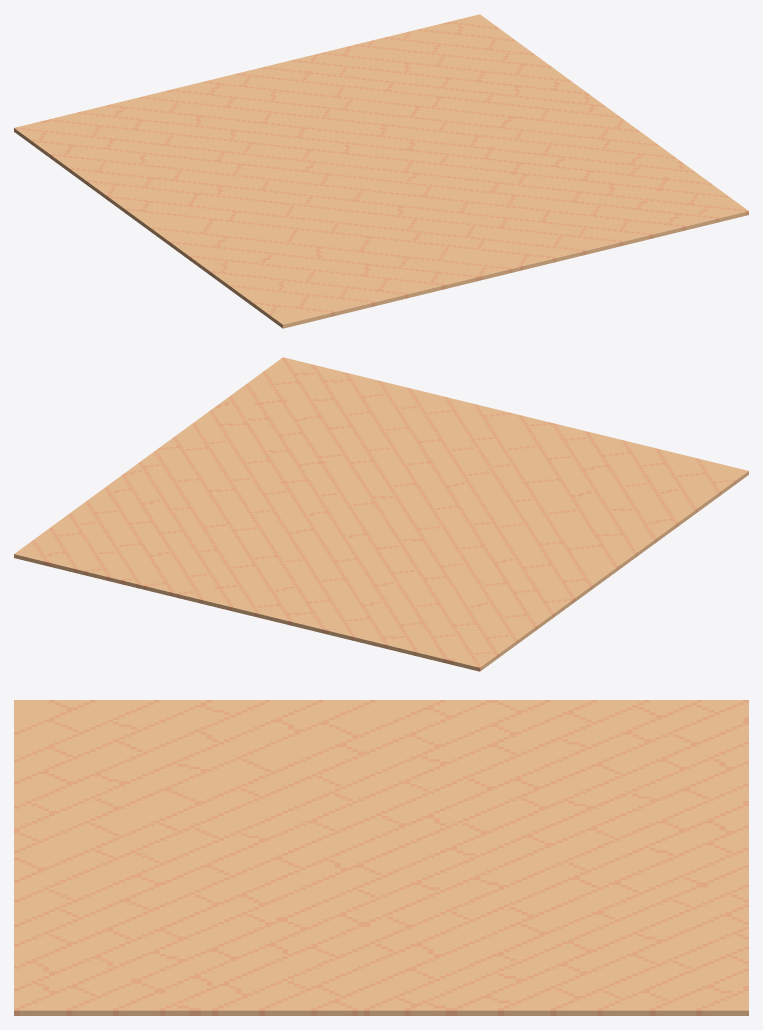
File: floor.obj
3 renders of one model, top to bottom at view 1: azimuth 30°, elevation 25°; view 2: azimuth 150°, elevation 25°; view 3: azimuth 270°, elevation 25°, orthographic. The views are drawn at different scales.
Size of the model in its own units: 126 by 1 by 126.
1 material, 1 textured.
